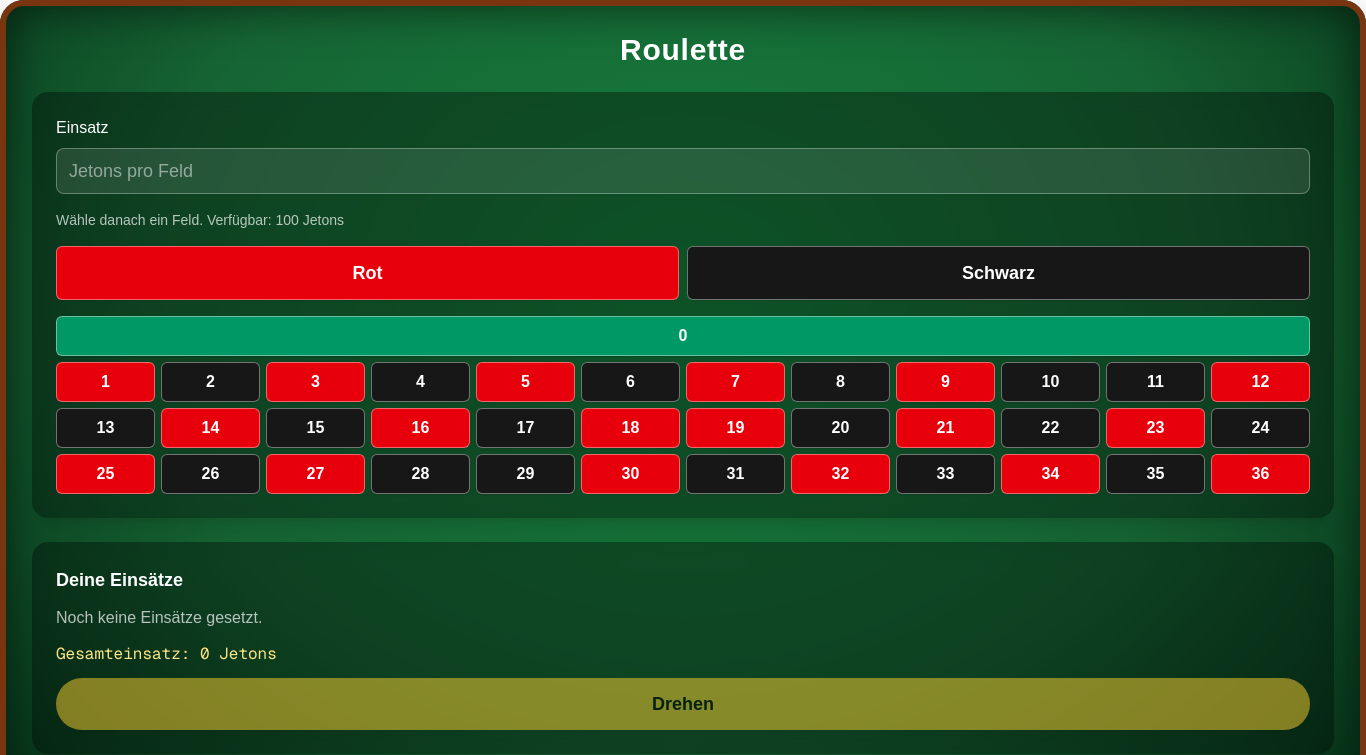
Test: RouletteGame: Einsaetze setzen › entfernt einen Einsatz aus der Uebersicht
This screenshot has width=1366, height=755.
Step 1. Type "10" into the field labelled "Einsatz" → (683, 171), box [56,148,1310,194]
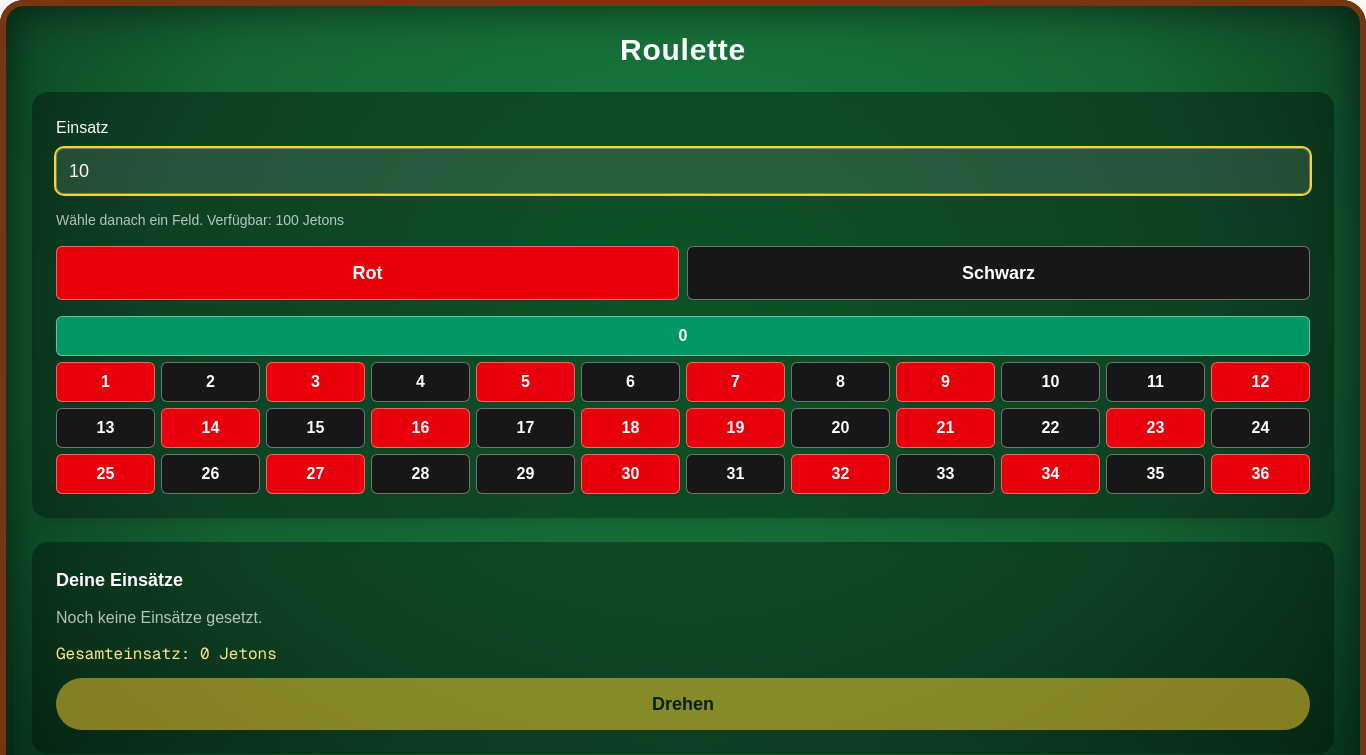
Step 2. Click the button "Rot" → (368, 273), box [56,246,679,300]
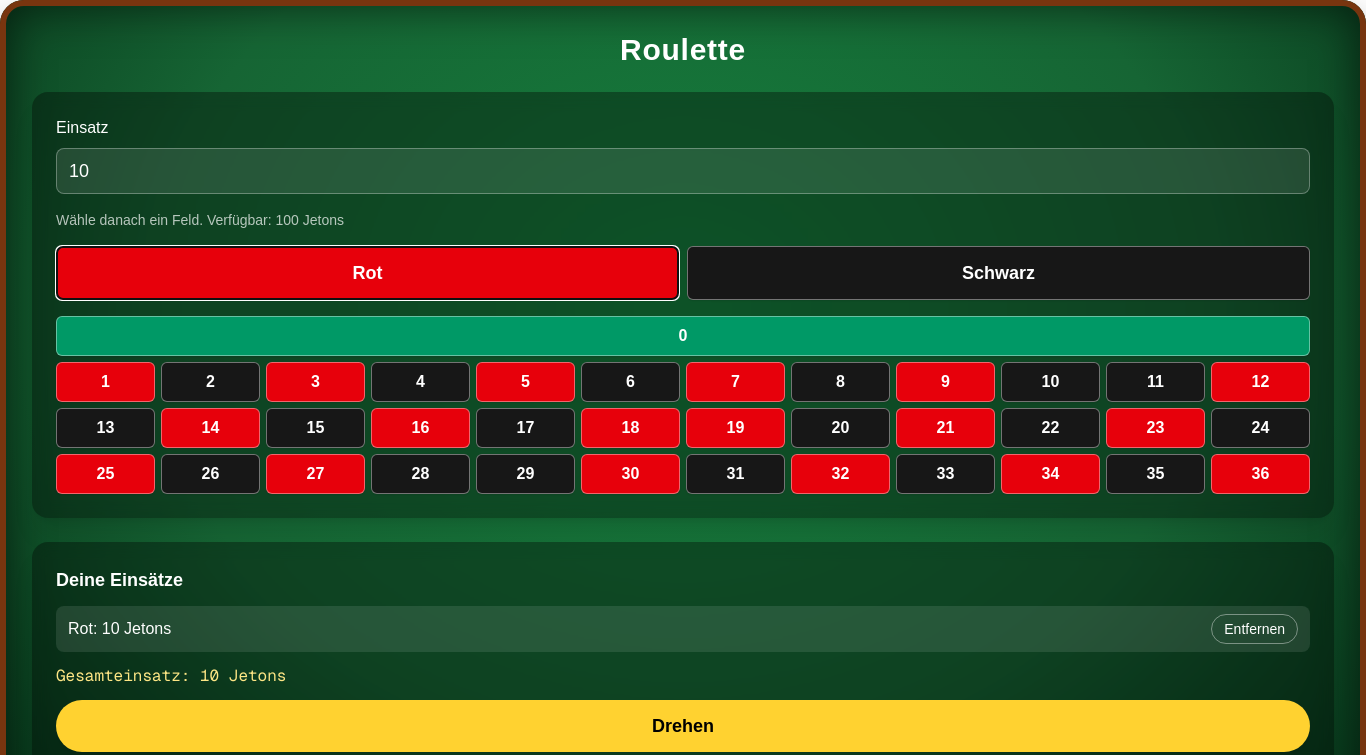
Step 3. Replace the text in the field labelled "Einsatz" with "5" → (683, 171), box [56,148,1310,194]
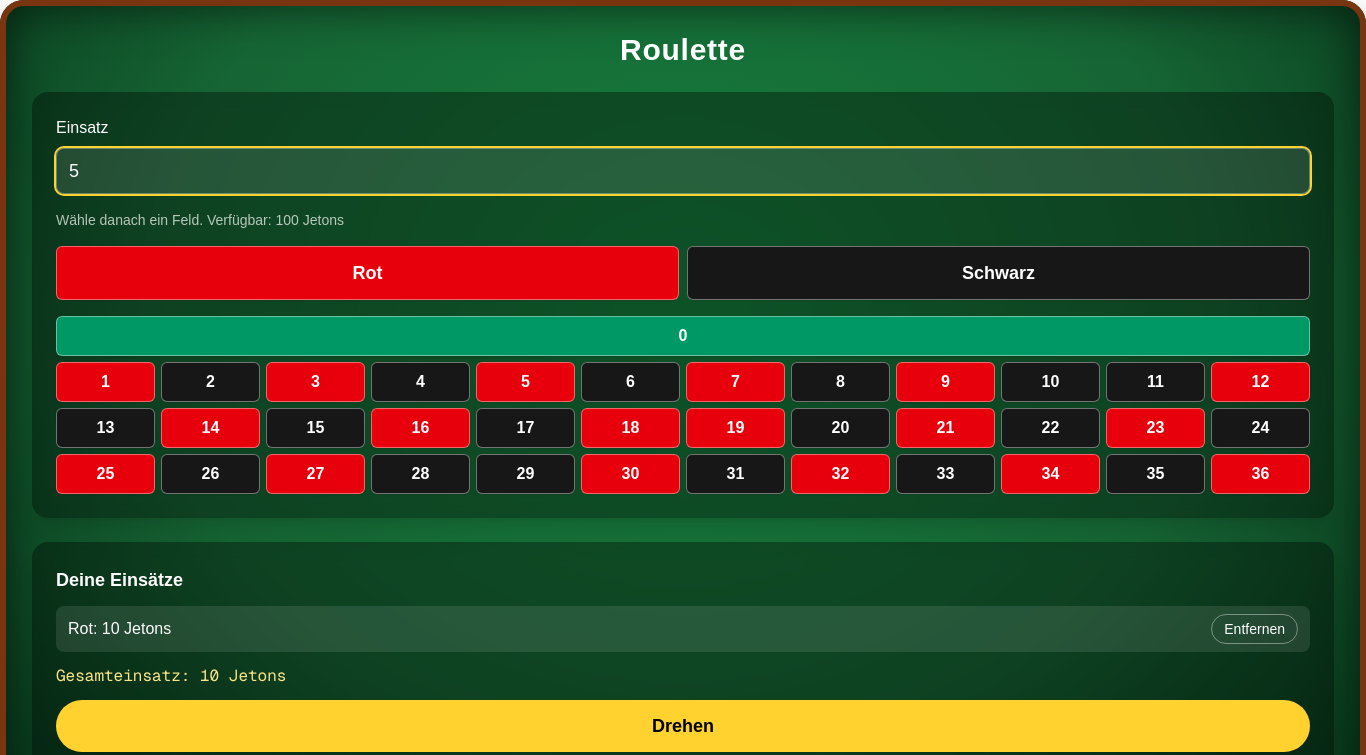
Step 4. Click the button named "Nummer 17" → (526, 428), box [476,408,575,448]
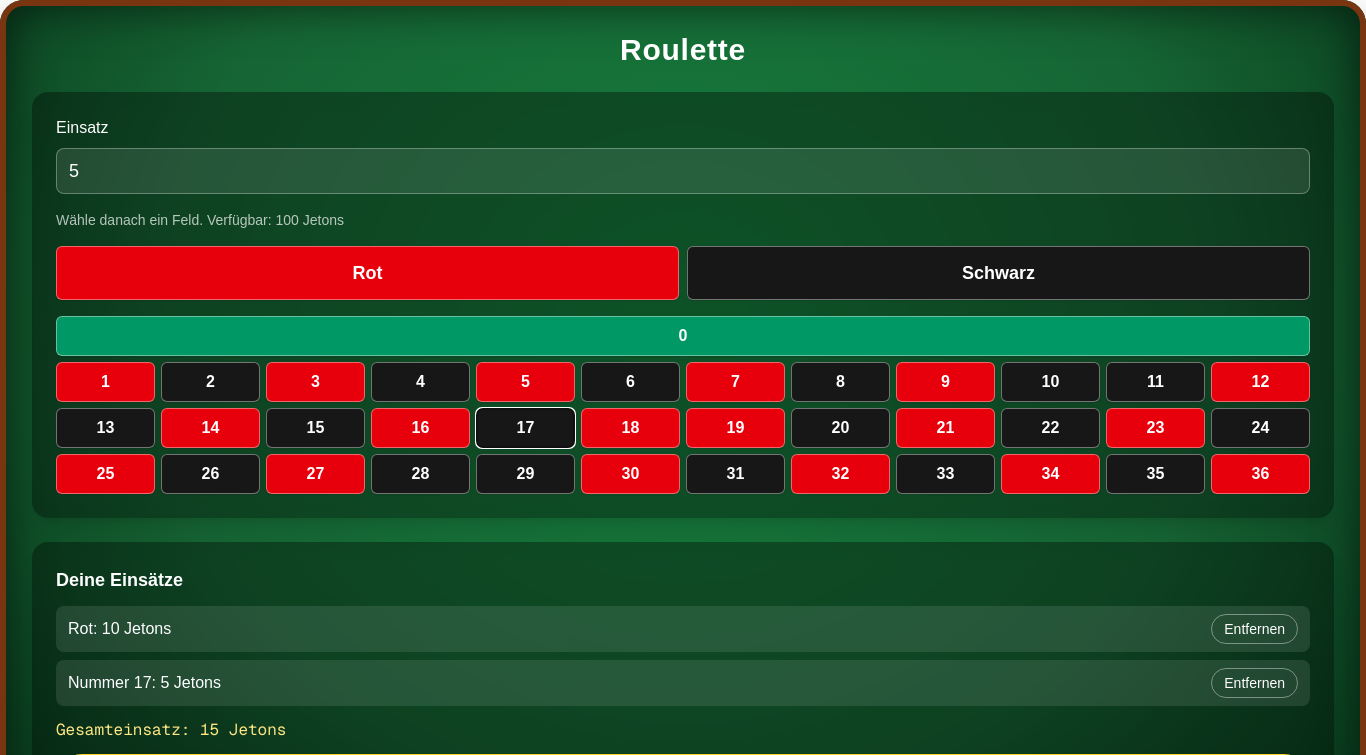
Step 5. Click the button "Entfernen" in the row of "Rot: 10 Jetons" → (1255, 629), box [1211,614,1298,644]
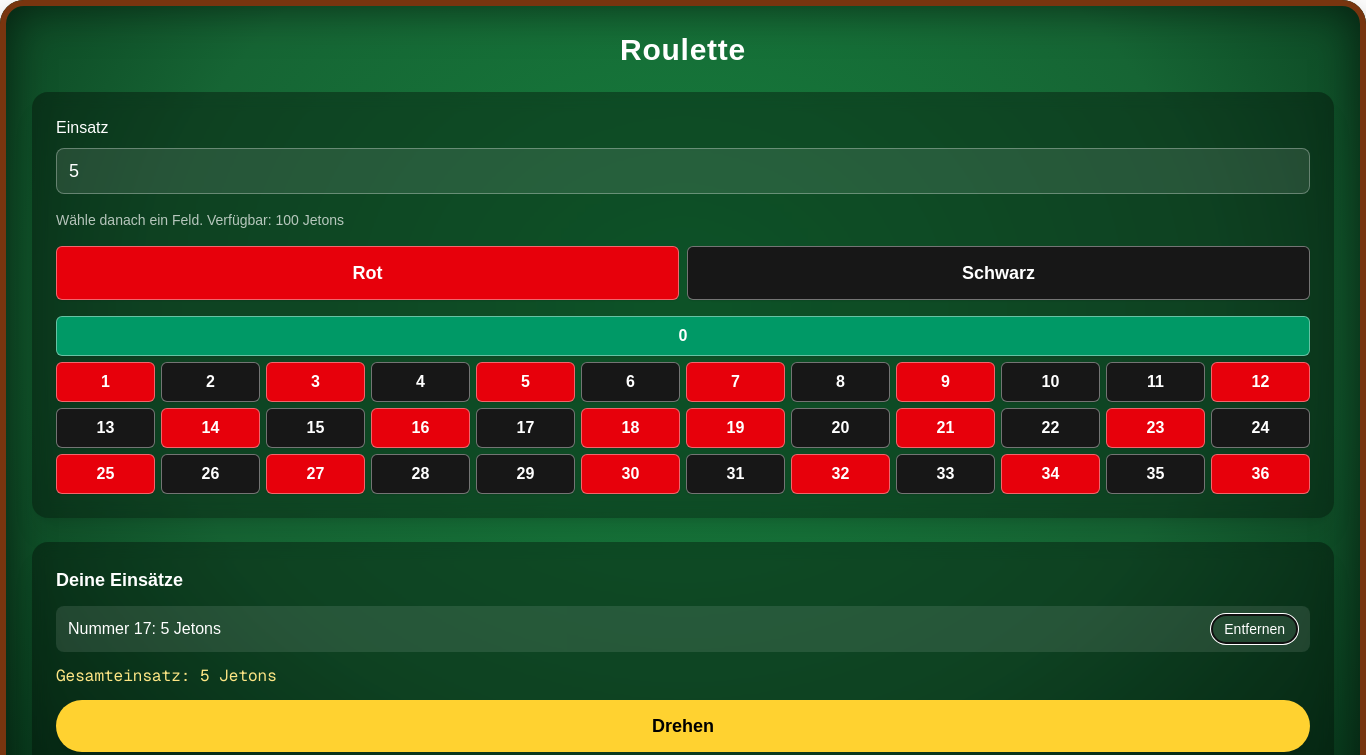
Result: the number of list items is 1 at [56,606,1310,652]
Result: the list item shows "Nummer 17: 5 Jetons" at [68,620,221,637]
